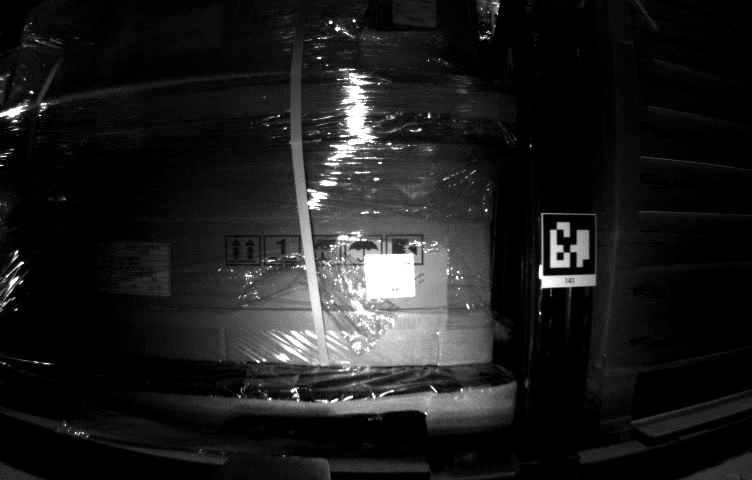True Barcode: (363, 253, 416, 298)
